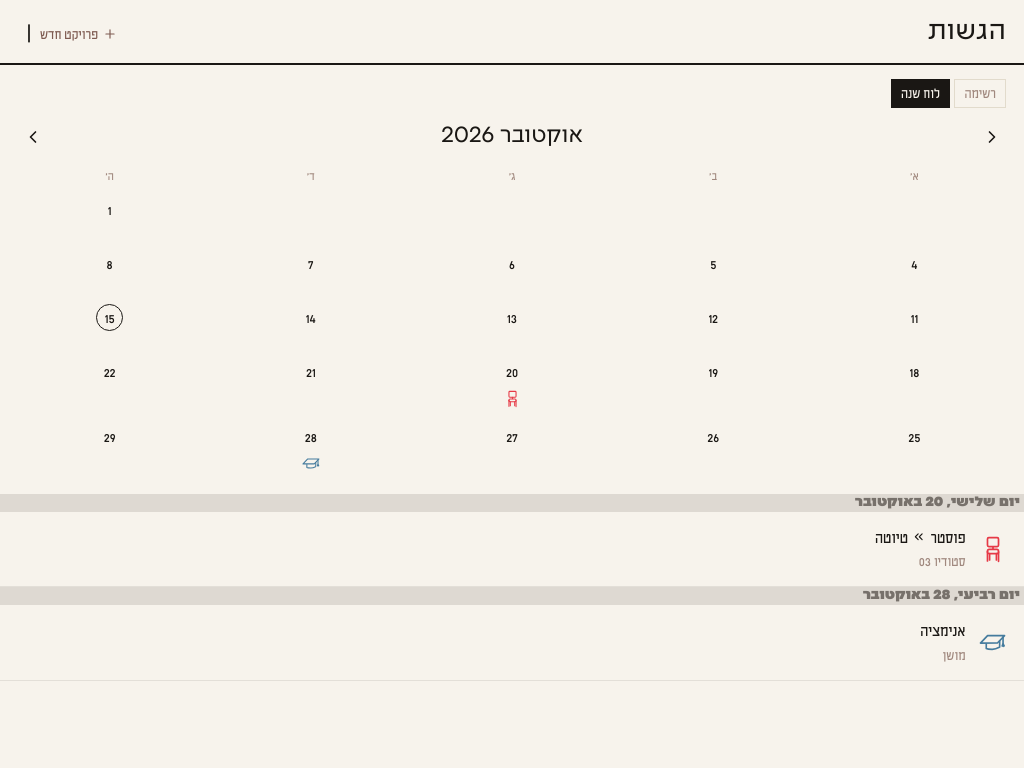
Test: ProjectCalendar screen › offers that weekday's courses for a new project on an upcoming day
The image size is (1024, 768).
Click the button named "21 באוקטובר".
click(311, 383)  # box left=210, top=350, right=411, bottom=416
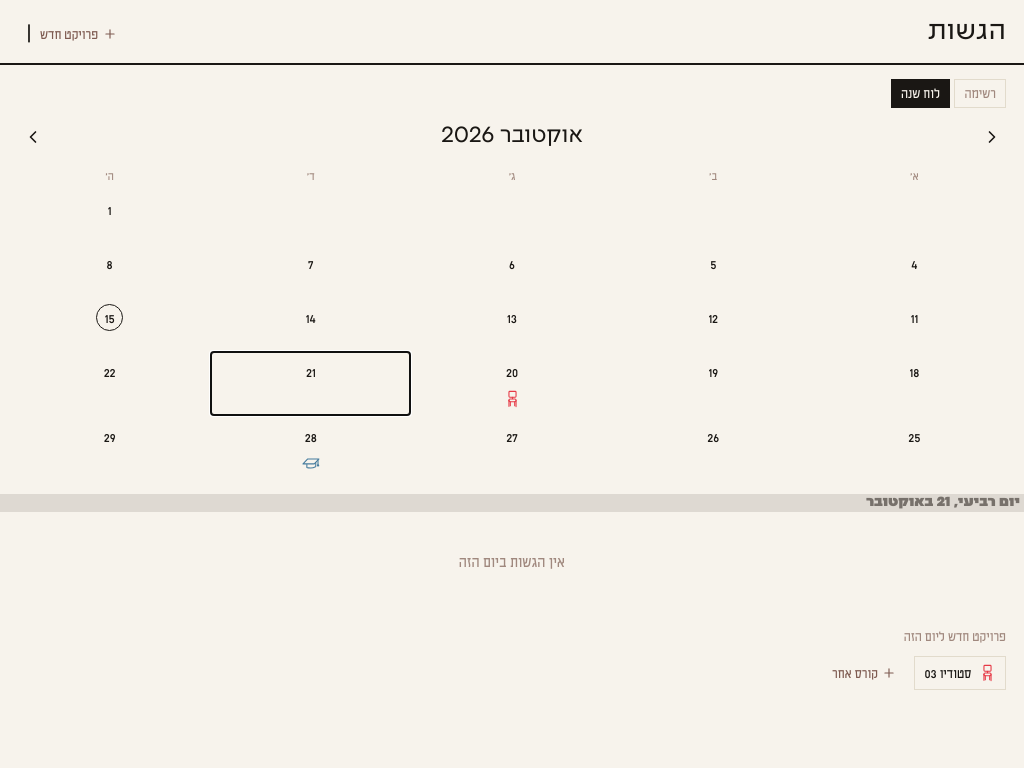
Now the text "פרויקט חדש ליום הזה" is shown, box left=904, top=626, right=1006, bottom=644
Now the link "מושן" is gone
